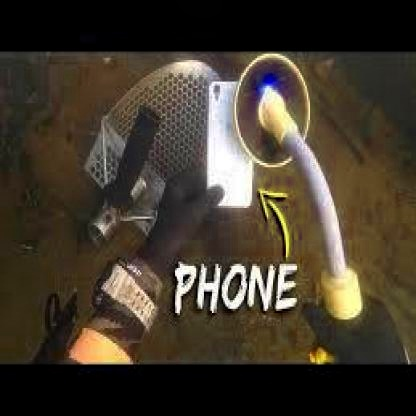cellphone: (206, 79, 256, 210)
